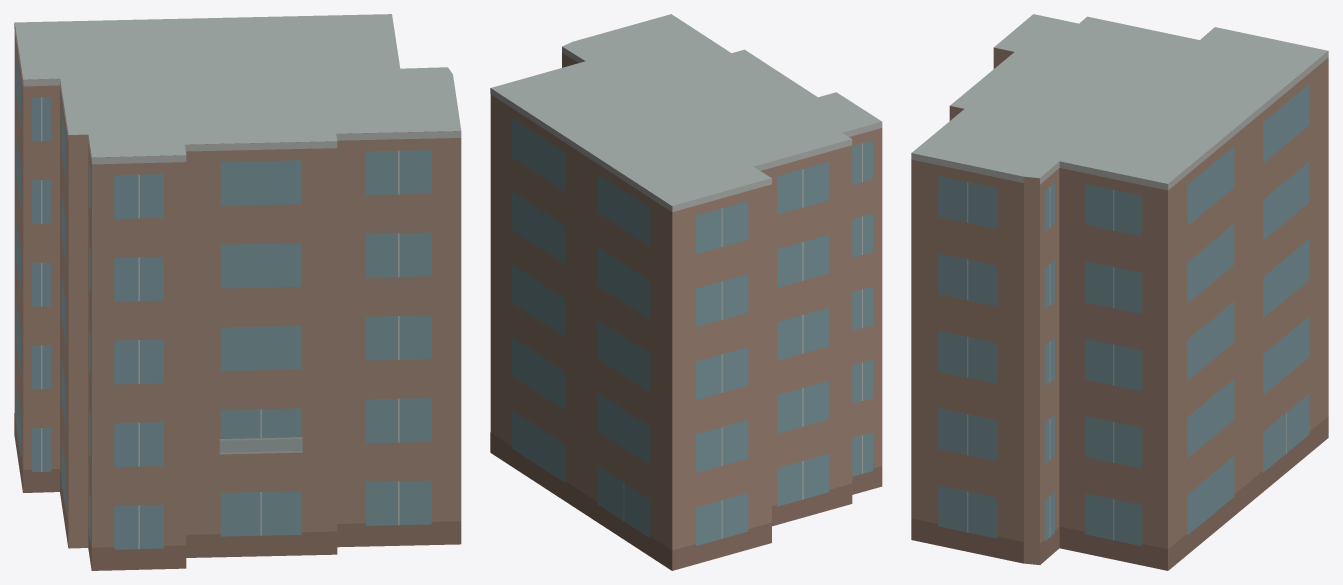
The model's file is survey-upis-32923904.glb.
The picture shows the model from 3 angles, left to right: view 1: azimuth 30°, elevation 25°; view 2: azimuth 150°, elevation 25°; view 3: azimuth 270°, elevation 25°; orthographic projection. The views are drawn at different scales.
Parts seen in each view (by area): view 1: survey-upis-32923904.tmp; view 2: survey-upis-32923904.tmp; view 3: survey-upis-32923904.tmp.
Boxes of the visible parts, x1,y1,x2,y2 form: survey-upis-32923904.tmp: (14,14,461,570); survey-upis-32923904.tmp: (490,14,882,570); survey-upis-32923904.tmp: (911,14,1328,570).
Size of the model in its own units: 13.67 by 14.5 by 14.18.
